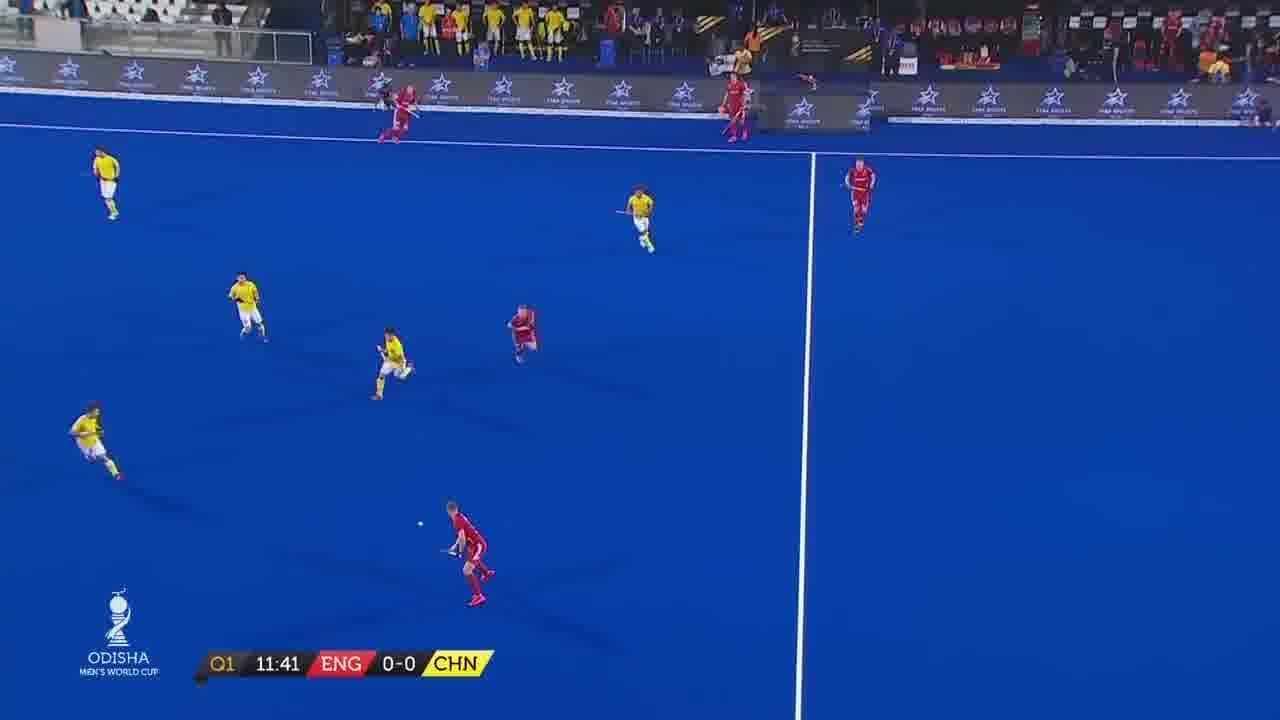ball: (416, 518, 428, 528)
